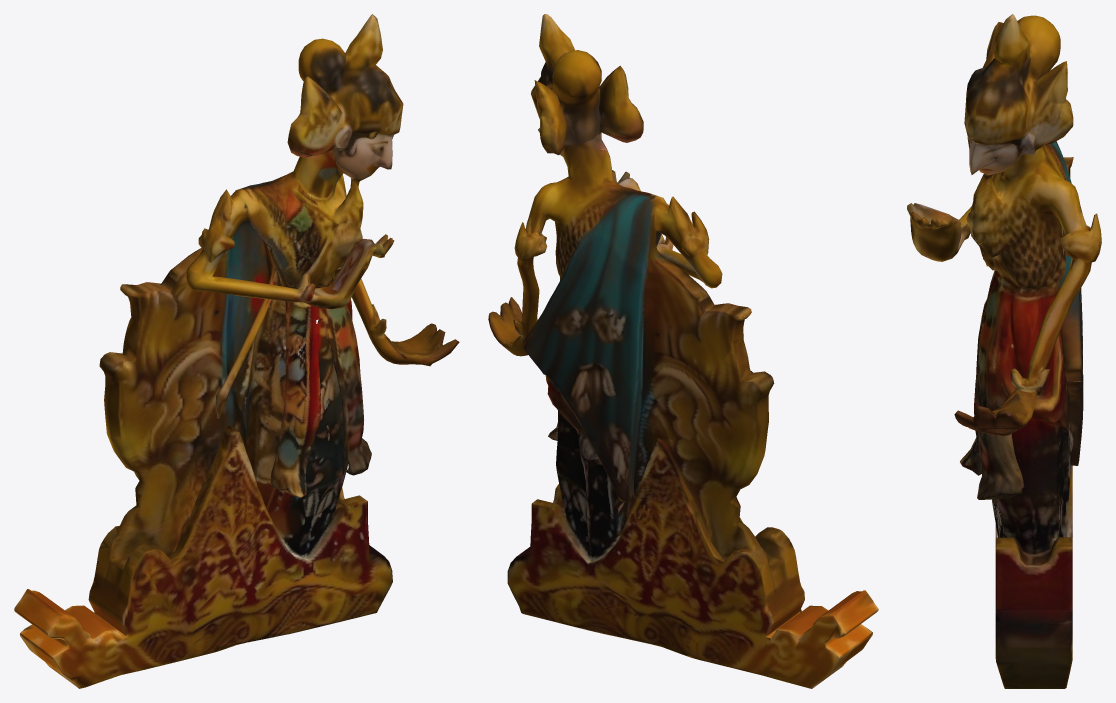
The model's file is patung_kanan.glb.
3 renders of one model, left to right at view 1: azimuth 30°, elevation 25°; view 2: azimuth 150°, elevation 25°; view 3: azimuth 270°, elevation 25°, orthographic. The views are drawn at different scales.
Parts seen in each view (by area): view 1: tripo_node_d1e51c15-2b20-4091-b221-b976b89c9633; view 2: tripo_node_d1e51c15-2b20-4091-b221-b976b89c9633; view 3: tripo_node_d1e51c15-2b20-4091-b221-b976b89c9633.
Boxes of the visible parts, box(x1,y1,x2,y2) form: tripo_node_d1e51c15-2b20-4091-b221-b976b89c9633: box(14, 14, 459, 688); tripo_node_d1e51c15-2b20-4091-b221-b976b89c9633: box(488, 14, 878, 688); tripo_node_d1e51c15-2b20-4091-b221-b976b89c9633: box(907, 14, 1101, 688).
Size of the model in its own units: 0.6887 by 0.9995 by 0.2608.
1 material, 1 textured.
